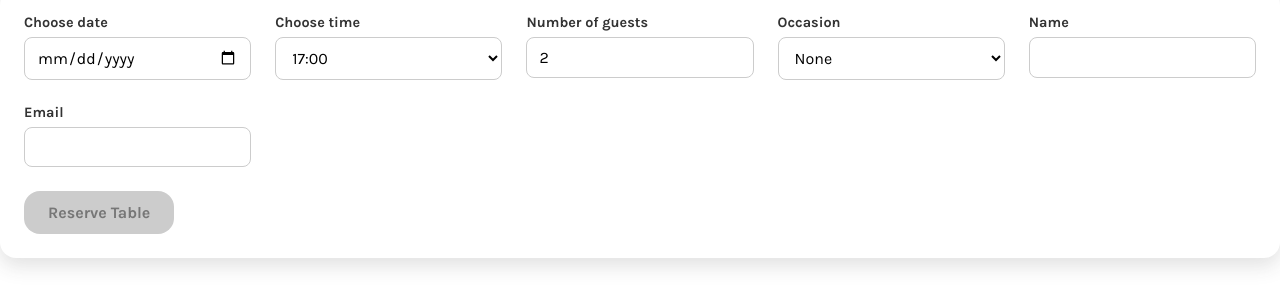
it: client-side (React) form validation › submit button stays disabled when the email is malformed
Step 1. Type "2026-09-01" into the date field labelled "Choose date" → [138, 58], box [24,37,251,80]
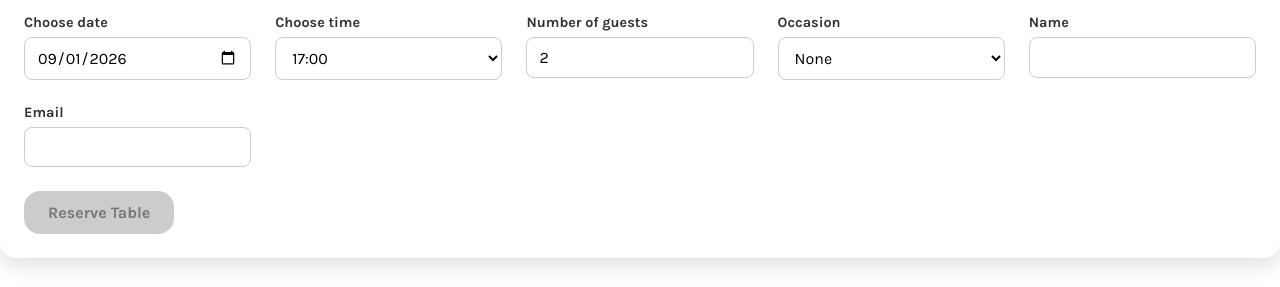
Step 2. Replace the text in the number field labelled "Number of guests" with "4" → [640, 58], box [526,37,754,78]
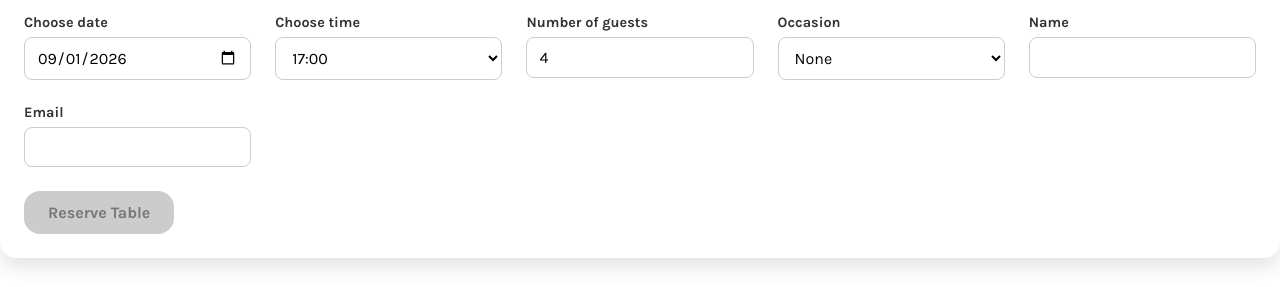
Step 3. Type "Jane Doe" into the field labelled "Name" → [1142, 58], box [1029,37,1256,78]
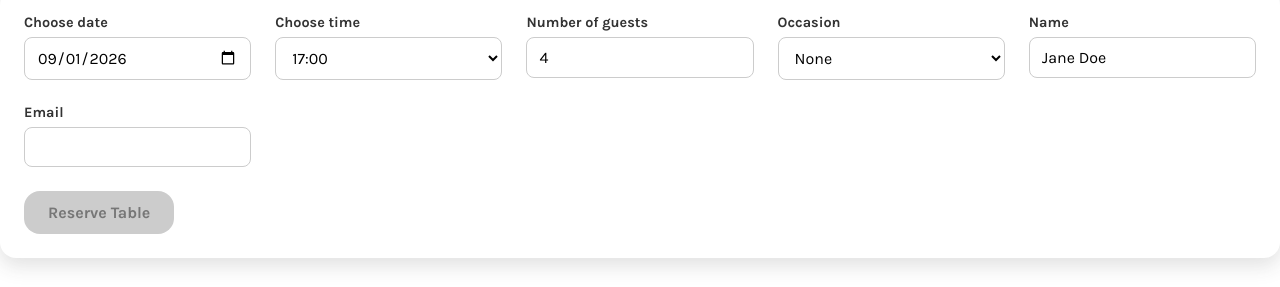
Step 4. Type "jane@example.com" into the field labelled "Email" → [138, 147], box [24,127,251,167]
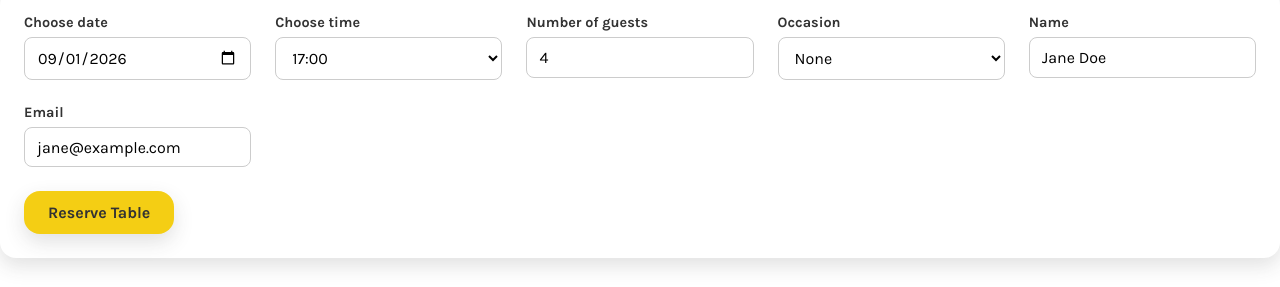
Step 5. Replace the text in the field labelled "Email" with "not-an-email" → [138, 147], box [24,127,251,167]
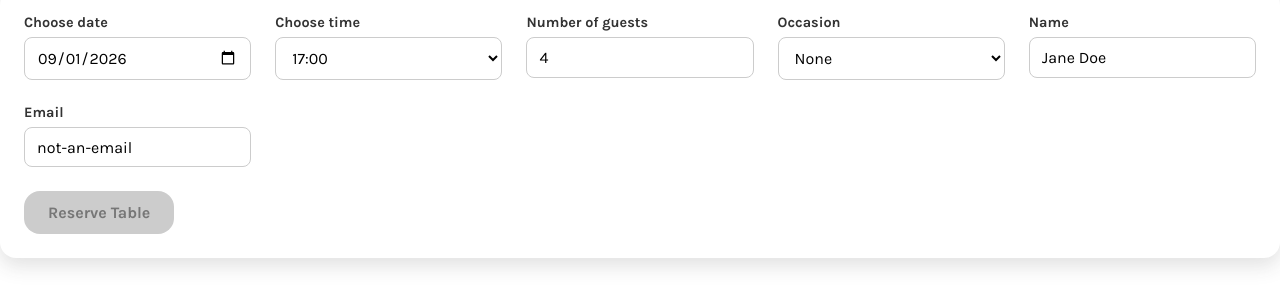
Check: the button "Reserve Table" is disabled, box [24,191,174,234]
